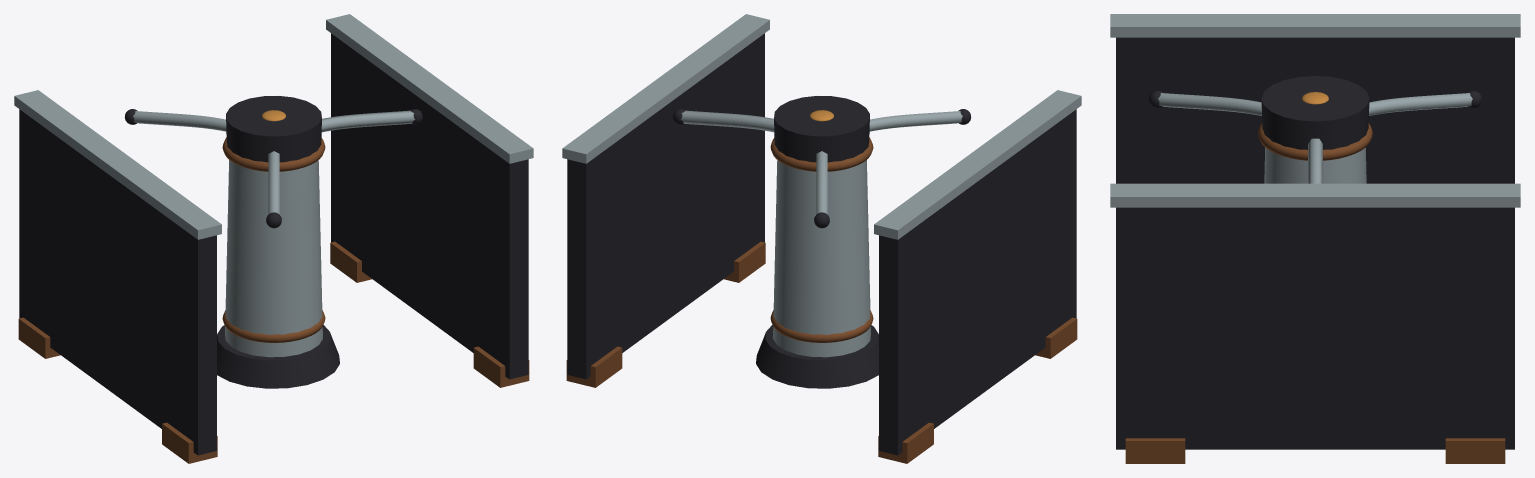
The model's file is mia-turnstile.glb.
The picture shows the model from 3 angles, left to right: view 1: azimuth 30°, elevation 25°; view 2: azimuth 150°, elevation 25°; view 3: azimuth 270°, elevation 25°; orthographic projection. The views are drawn at different scales.
Visible parts, largest first — view 1: Body_iron, Body_steel, Body_rust; view 2: Body_iron, Body_steel, Body_rust; view 3: Body_iron, Body_steel, Body_rust.
Part boxes in pixels (x1,y1,x2,y2): Body_iron: (19,33,528,455); Body_steel: (14,14,533,357); Body_rust: (18,137,529,463); Body_iron: (567,33,1076,455); Body_steel: (562,14,1081,357); Body_rust: (566,137,1077,463); Body_iron: (1116,37,1514,449); Body_steel: (1110,14,1520,207); Body_rust: (1125,123,1505,463).
Bounding box in the file's own units: 1.53 × 1.06 × 1.43.
